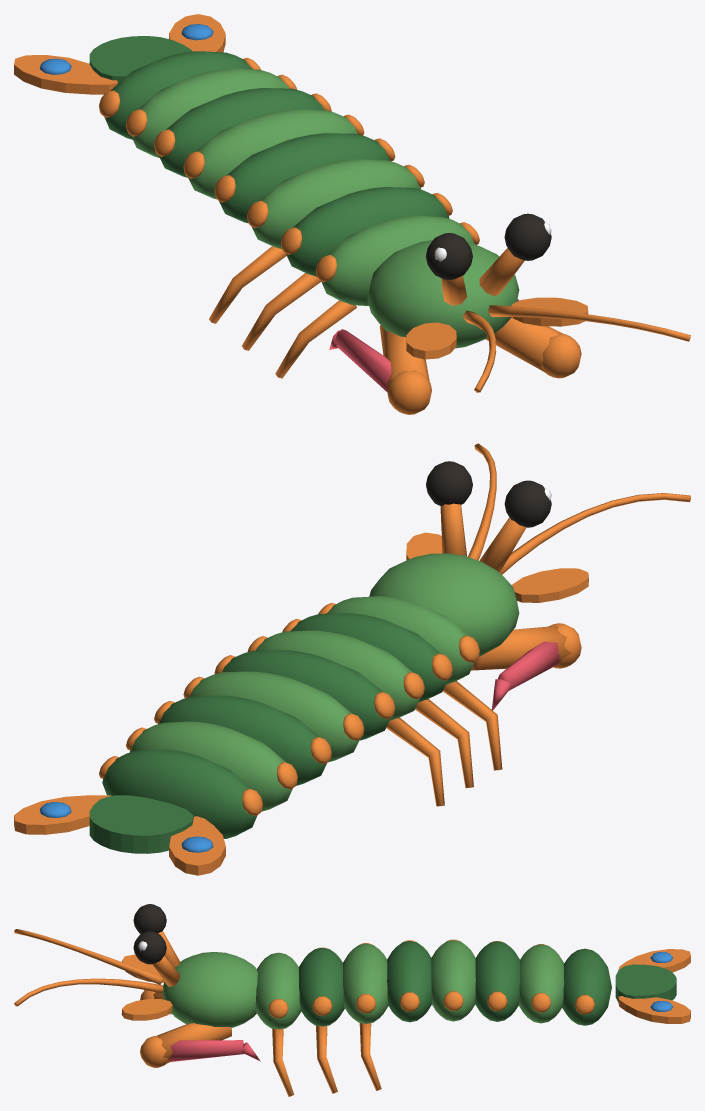
The model's file is sea-mantis-shrimp.glb.
3 renders of one model, top to bottom at view 1: azimuth 30°, elevation 25°; view 2: azimuth 150°, elevation 25°; view 3: azimuth 270°, elevation 25°, orthographic. The views are drawn at different scales.
Parts seen in each view (by area): view 1: mantis; view 2: mantis; view 3: mantis.
Part boxes in pixels (box(x1,y1,x2,y2)): mantis: box(14, 14, 690, 414); mantis: box(14, 443, 690, 875); mantis: box(14, 904, 690, 1096).
Size of the model in its own units: 0.1113 by 0.0903 by 0.3945.
